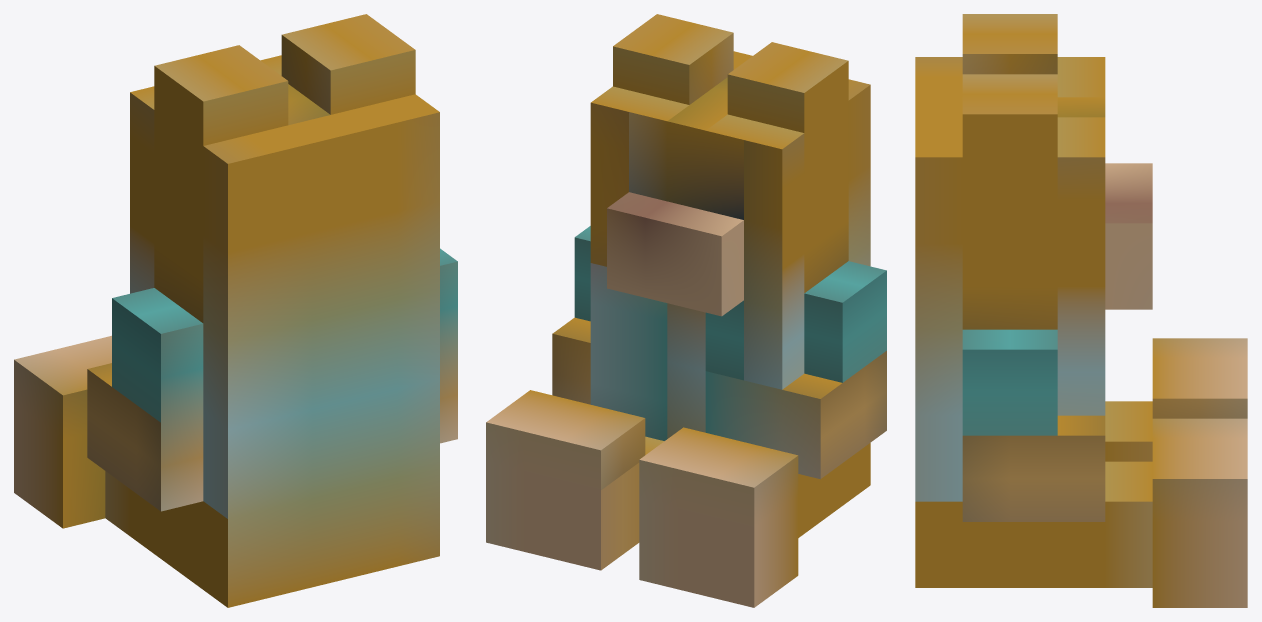
File: TeddyBearStripedShirt_00.obj
3 renders of one model, left to right at view 1: azimuth 30°, elevation 25°; view 2: azimuth 150°, elevation 25°; view 3: azimuth 270°, elevation 25°, orthographic. The views are drawn at different scales.
Parts seen in each view (by area): view 1: TeddyBearStripedShirt_00; view 2: TeddyBearStripedShirt_00; view 3: TeddyBearStripedShirt_00.
Part boxes in pixels (<box>): TeddyBearStripedShirt_00: <box>14,14,457,607</box>; TeddyBearStripedShirt_00: <box>486,14,886,607</box>; TeddyBearStripedShirt_00: <box>915,14,1247,607</box>.
Bounding box in the file's own units: 0.35 × 0.55 × 0.35.
